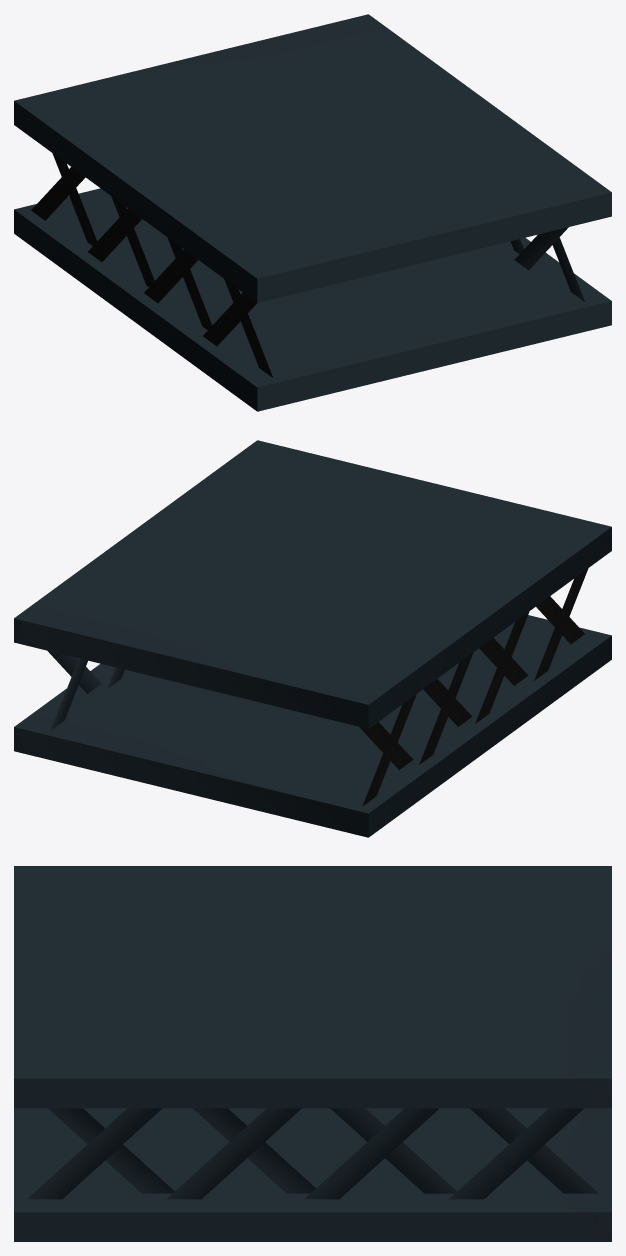
File: F_Theatre_Platform_1.fbx
The picture shows the model from 3 angles, top to bottom: view 1: azimuth 30°, elevation 25°; view 2: azimuth 150°, elevation 25°; view 3: azimuth 270°, elevation 25°; orthographic projection. The views are drawn at different scales.
Visible parts, largest first — view 1: F_Theatre_Platform_1; view 2: F_Theatre_Platform_1; view 3: F_Theatre_Platform_1.
Part boxes in pixels (left/top/right/bottom): F_Theatre_Platform_1: left=14, top=14, right=611, bottom=411; F_Theatre_Platform_1: left=14, top=440, right=611, bottom=837; F_Theatre_Platform_1: left=14, top=866, right=611, bottom=1241.
Bounding box in the file's own units: 4.33 × 1.31 × 3.65.
1 material, 1 textured.
